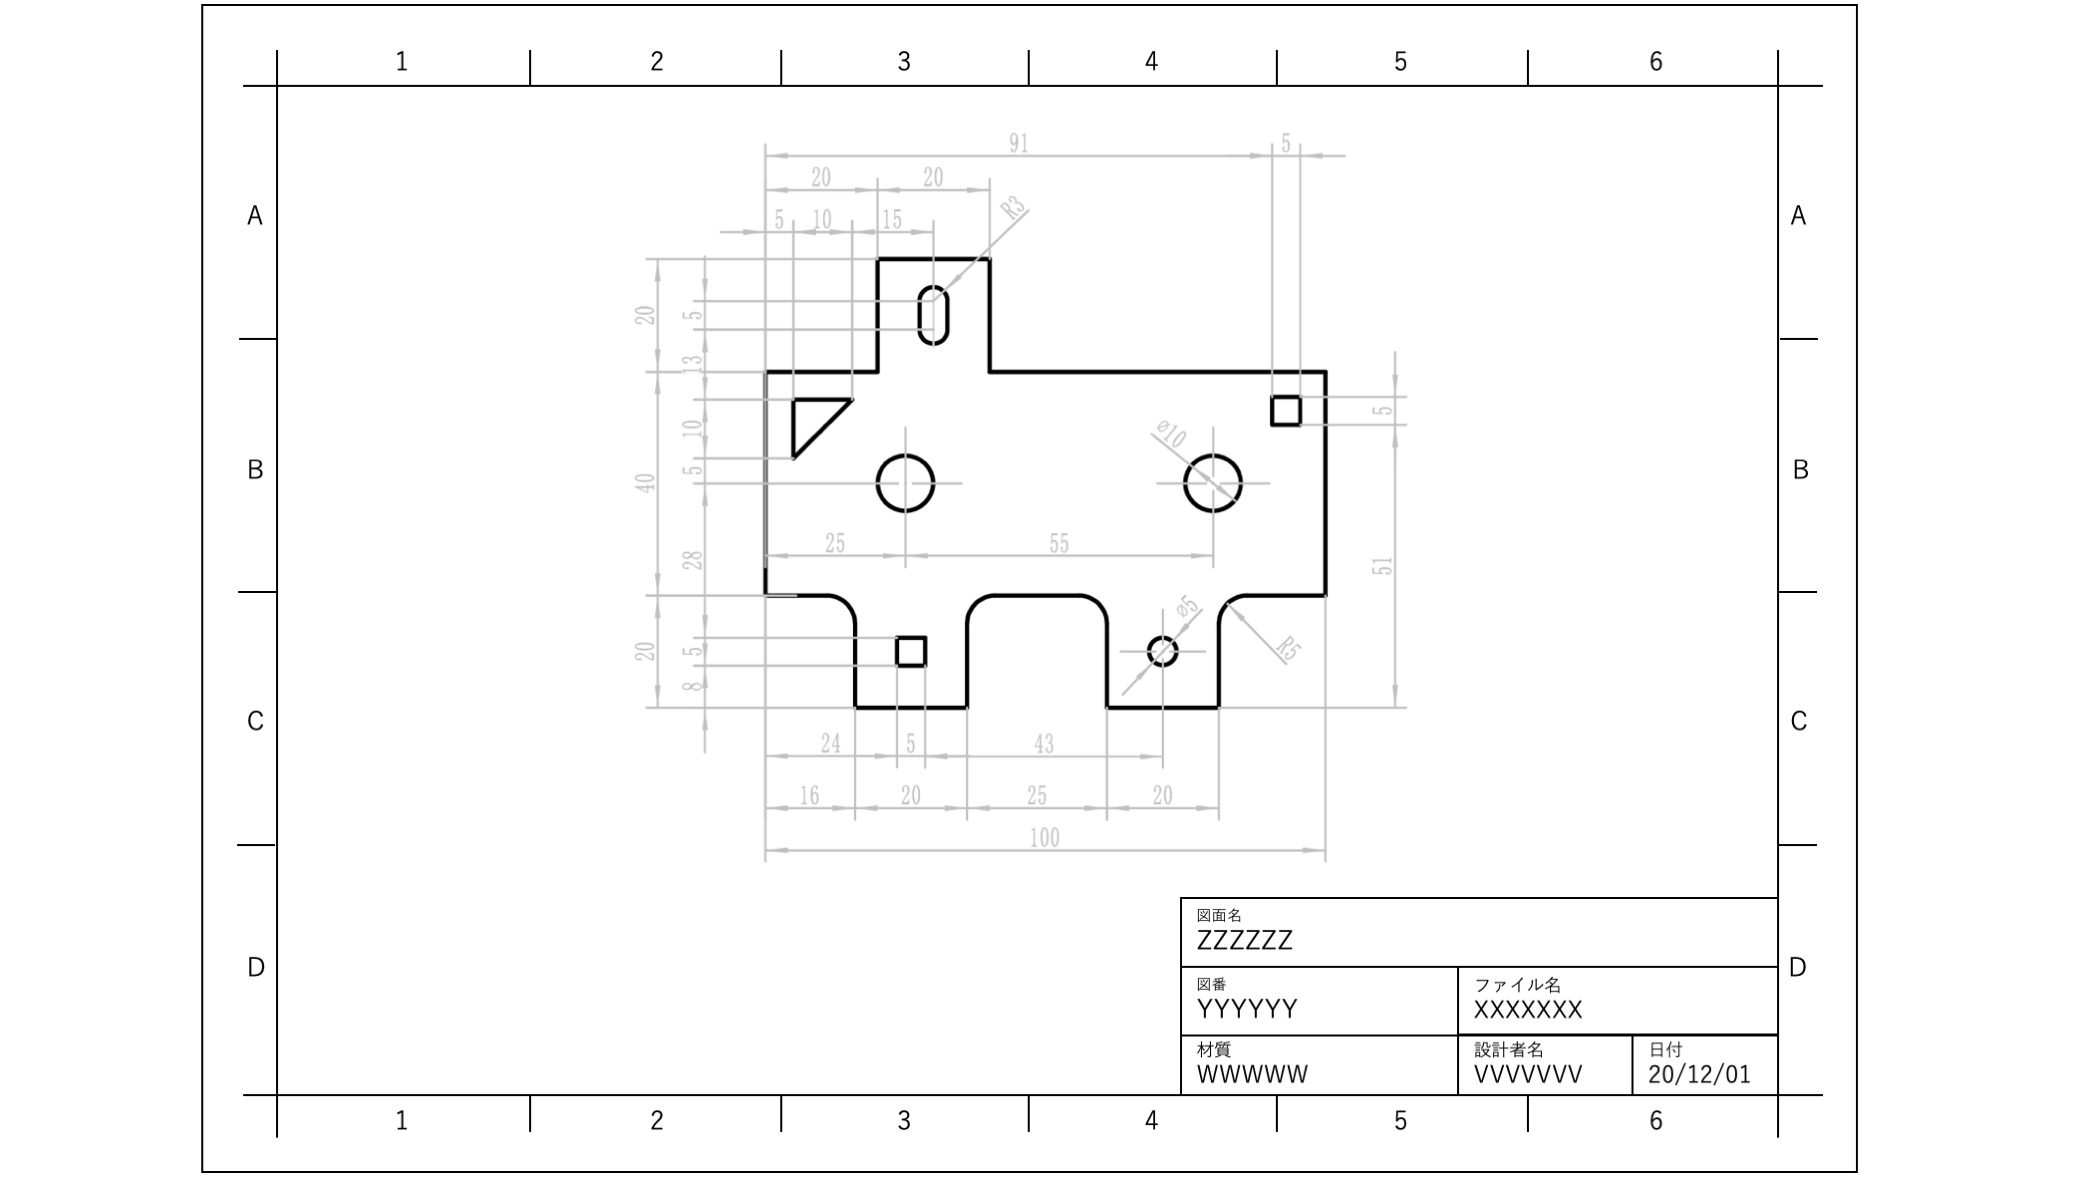circle: (871, 444, 939, 518), (1180, 451, 1253, 519), (1141, 624, 1183, 673)
rectangle: (1261, 389, 1307, 438), (888, 630, 932, 676)
round_rectangle: (909, 273, 955, 353)
triangle: (783, 391, 861, 461)
